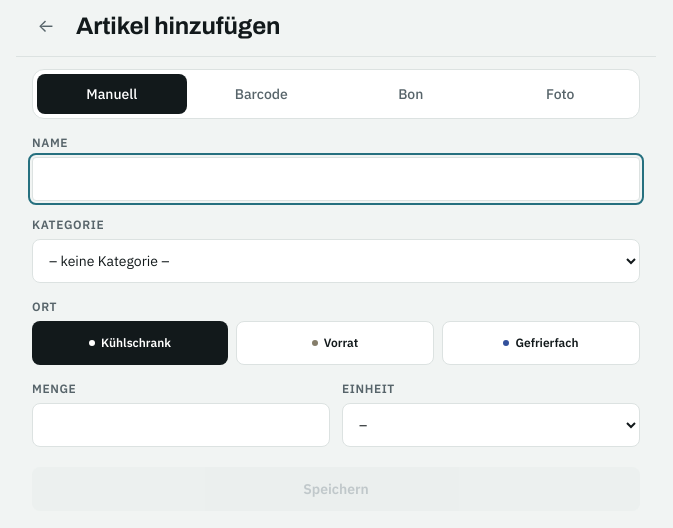
Test: AddItem — auto-classification › fills category and location from the typed name
The width and height of the screenshot is (673, 528).
Type "Joghurt" into the field labelled "Name" at (336, 179), box [32,157,640,201]
Wait 600 ms
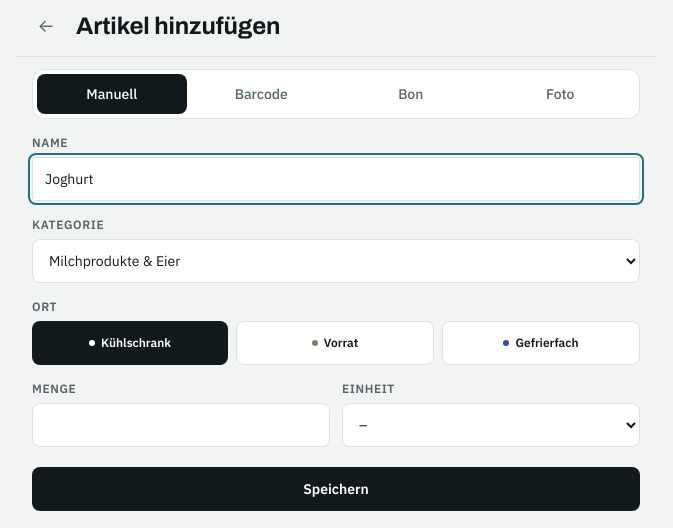
Expected: the dropdown labelled "Kategorie" shows "Milchprodukte & Eier", [32,239,640,283]
